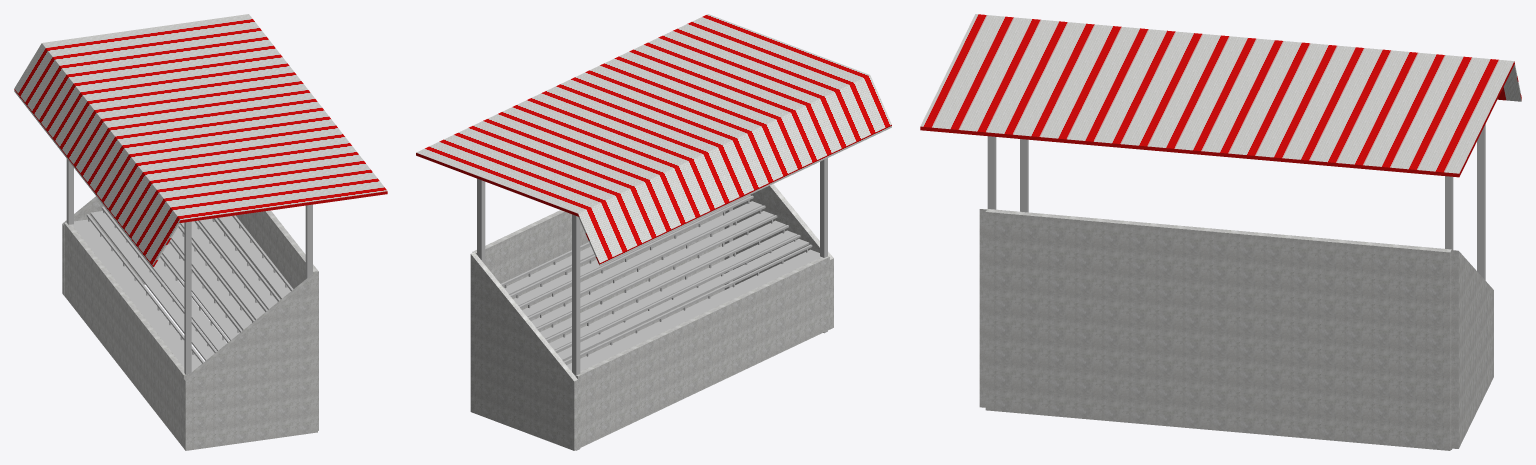
File: Tribune.fbx
3 views of the same model, side by side, from view 1: azimuth 30°, elevation 25°; view 2: azimuth 150°, elevation 25°; view 3: azimuth 270°, elevation 25° (orthographic). The views are drawn at different scales.
Parts seen in each view (by area): view 1: TopSide, Sides, Tribune, Columns; view 2: TopSide, Sides, Tribune, Columns; view 3: Sides, TopSide, Columns.
Part boxes in pixels (box(x1,y1,x2,y2)): TopSide: box(14, 14, 387, 267); Sides: box(62, 196, 318, 450); Tribune: box(72, 206, 293, 371); Columns: box(66, 159, 312, 374); TopSide: box(416, 14, 891, 265); Sides: box(470, 184, 833, 450); Tribune: box(501, 195, 820, 371); Columns: box(477, 158, 827, 450); Sides: box(979, 209, 1493, 450); TopSide: box(920, 14, 1521, 177); Columns: box(987, 124, 1485, 449).
Size of the model in its own units: 1502 by 1250 by 2186.
